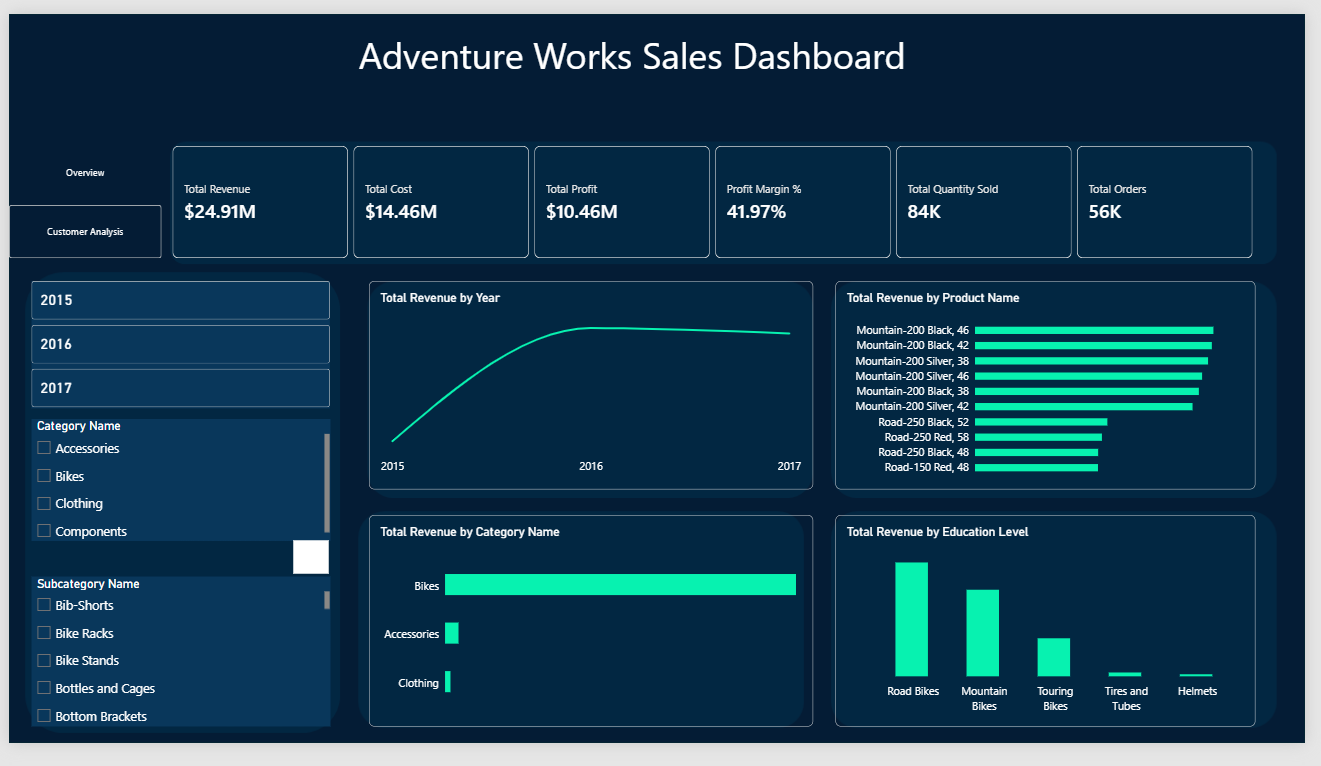

The dashboard page shown, as its layout file describes it:
{"tool":"powerbi","page":{"name":"Overview","canvas":[1920,1080],"ordinal":0},"visuals":[{"type":"cardVisual","fields":{"Data":["_Measures.Total Revenue","_Measures.Total Cost","_Measures.Total Profit","_Measures.Profit Margin %","_Measures.Total Quantity Sold","_Measures.Total Orders"]},"box":[242.2,195.6,1604.4,166.7],"z":0},{"type":"lineChart","fields":{"Category":["Dim_Date.Year"],"Y":["_Measures.Total Revenue"]},"box":[533.3,395.6,657.8,308.9],"z":1000},{"type":"clusteredBarChart","title":"Total Revenue by Category Name","fields":{"Category":["Products.CategoryName"],"Y":["_Measures.Total Revenue"]},"box":[533.3,742.2,657.8,313.3],"z":2000},{"type":"clusteredBarChart","title":"Total Revenue by Product Name","fields":{"Category":["Products.ProductName"],"Y":["_Measures.Total Revenue"]},"box":[1224.4,395.6,622.2,308.9],"z":3000},{"type":"clusteredColumnChart","title":"Total Revenue by Education Level","fields":{"Category":["Products.SubcategoryName"],"Y":["_Measures.Total Revenue"]},"box":[1224.4,742.2,622.2,313.3],"z":4000},{"type":"advancedSlicerVisual","fields":{"Values":["Dim_Date.Year"]},"box":[33.3,395.6,442.2,188.9],"z":5000},{"type":"slicer","fields":{"Values":["Products.CategoryName"]},"box":[33.3,600,442.2,180],"z":6000},{"type":"slicer","fields":{"Values":["Products.SubcategoryName"]},"box":[33.3,833.3,442.2,222.2],"z":7000},{"type":"pageNavigator","box":[0,195.6,226.7,166.7],"z":8000},{"type":"textbox","box":[0,24.4,1846.7,93.3],"z":8001}]}

Visuals, with their boxes in screenshot pixels (x1, y1, x2, y2), scaled from the page's 1920x1080 canvas onto the 1321x766 screenshot:
cardVisual - _Measures.Total Revenue x _Measures.Total Cost: detection(167, 139, 1270, 257)
lineChart - Dim_Date.Year x _Measures.Total Revenue: detection(367, 281, 820, 500)
"Total Revenue by Category Name" clusteredBarChart: detection(367, 526, 820, 749)
"Total Revenue by Product Name" clusteredBarChart: detection(842, 281, 1270, 500)
"Total Revenue by Education Level" clusteredColumnChart: detection(842, 526, 1270, 749)
advancedSlicerVisual - Dim_Date.Year: detection(23, 281, 327, 415)
slicer - Products.CategoryName: detection(23, 426, 327, 553)
slicer - Products.SubcategoryName: detection(23, 591, 327, 749)
pageNavigator: detection(0, 139, 156, 257)
textbox: detection(0, 17, 1271, 83)
